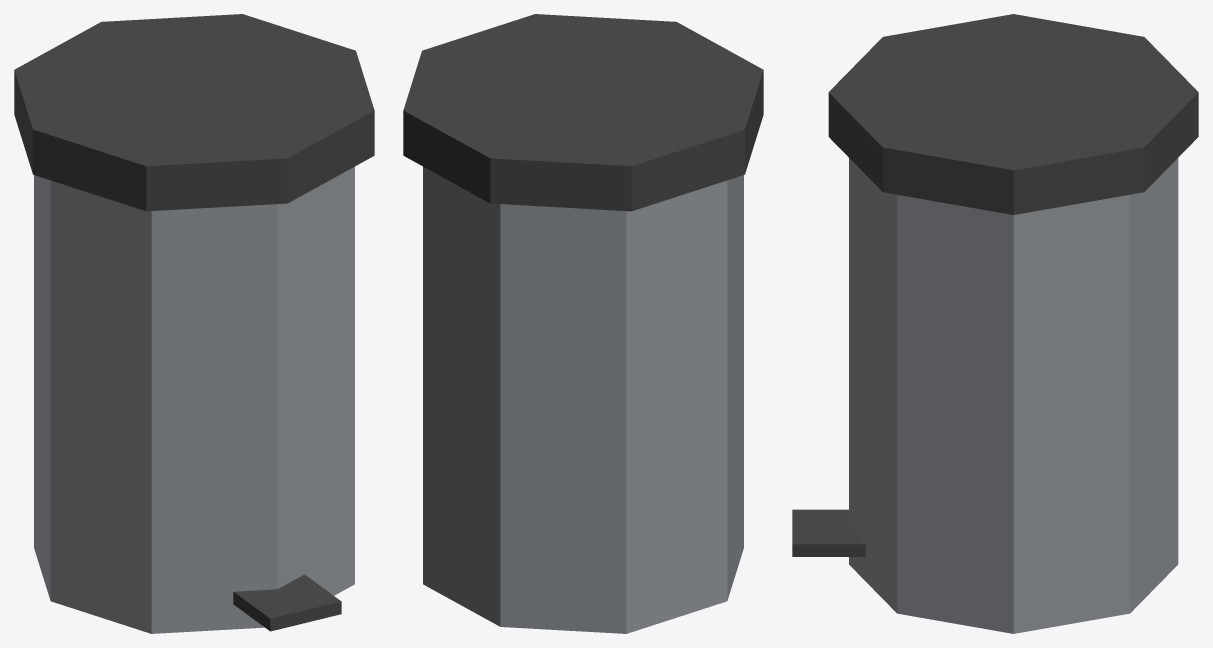
The model's file is DustBin_2.fbx.
3 views of the same model, side by side, from view 1: azimuth 30°, elevation 25°; view 2: azimuth 150°, elevation 25°; view 3: azimuth 270°, elevation 25° (orthographic).
Parts seen in each view (by area): view 1: polySurface1526; view 2: polySurface1526; view 3: polySurface1526.
Part boxes in pixels (x1,y1,x2,y2): polySurface1526: (14, 14, 374, 633); polySurface1526: (403, 14, 763, 633); polySurface1526: (792, 14, 1198, 633).
Bounding box in the file's own units: 0.5388 × 0.7589 × 0.5916.
1 material, 1 textured.
